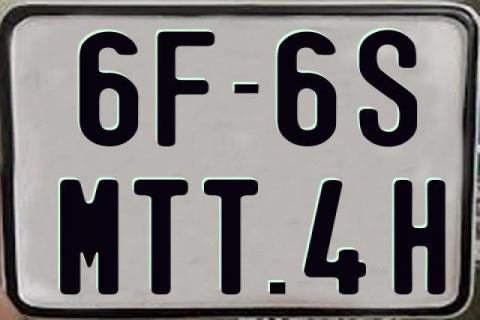0: (304, 178, 369, 298), (277, 31, 341, 146), (77, 29, 137, 148)
F: (156, 29, 220, 149)
H: (392, 178, 447, 294)
M: (58, 179, 122, 295)
S: (358, 28, 418, 148)
T: (132, 179, 188, 297), (204, 178, 259, 296)
